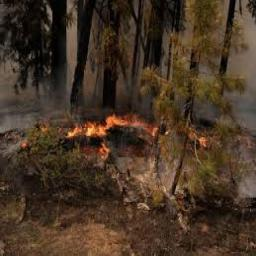Small fire: (38, 93, 256, 170)
